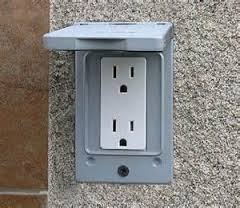outlet: (109, 62, 139, 93), (109, 116, 137, 147)
